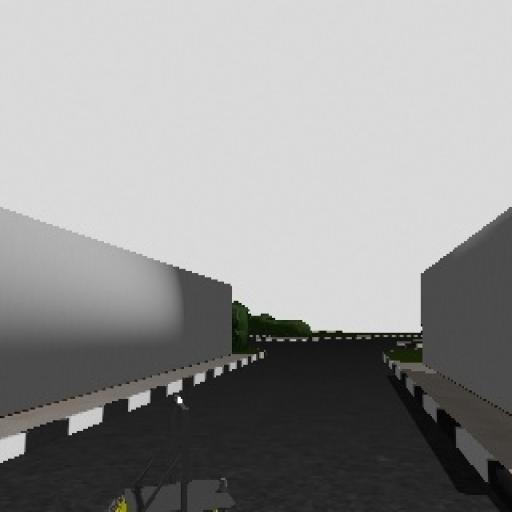huskya200: (102, 403, 240, 512)
